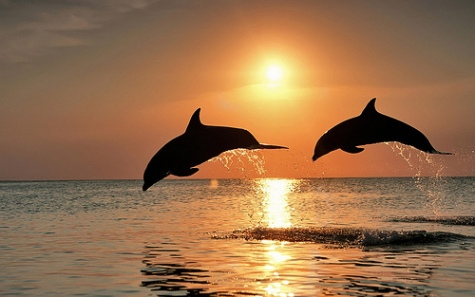dolphin: (134, 104, 294, 199), (308, 93, 459, 167)
